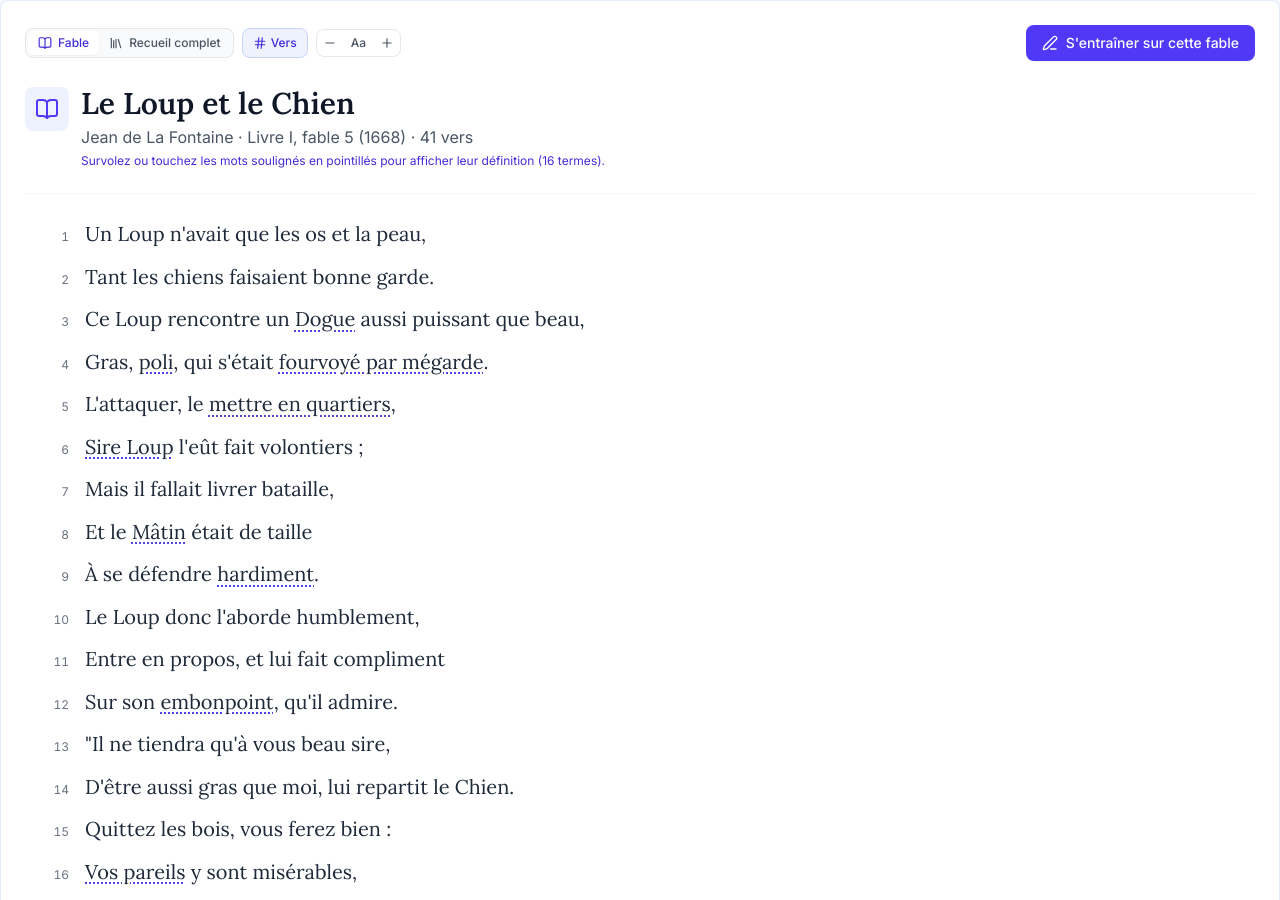
Test: FableReader › affiche la définition d’un mot annoté au survol et la masque à la sortie ou avec Échap
Hover over the text "Dogue".
mouse_move(325, 318)  # box 295,306 -> 355,331
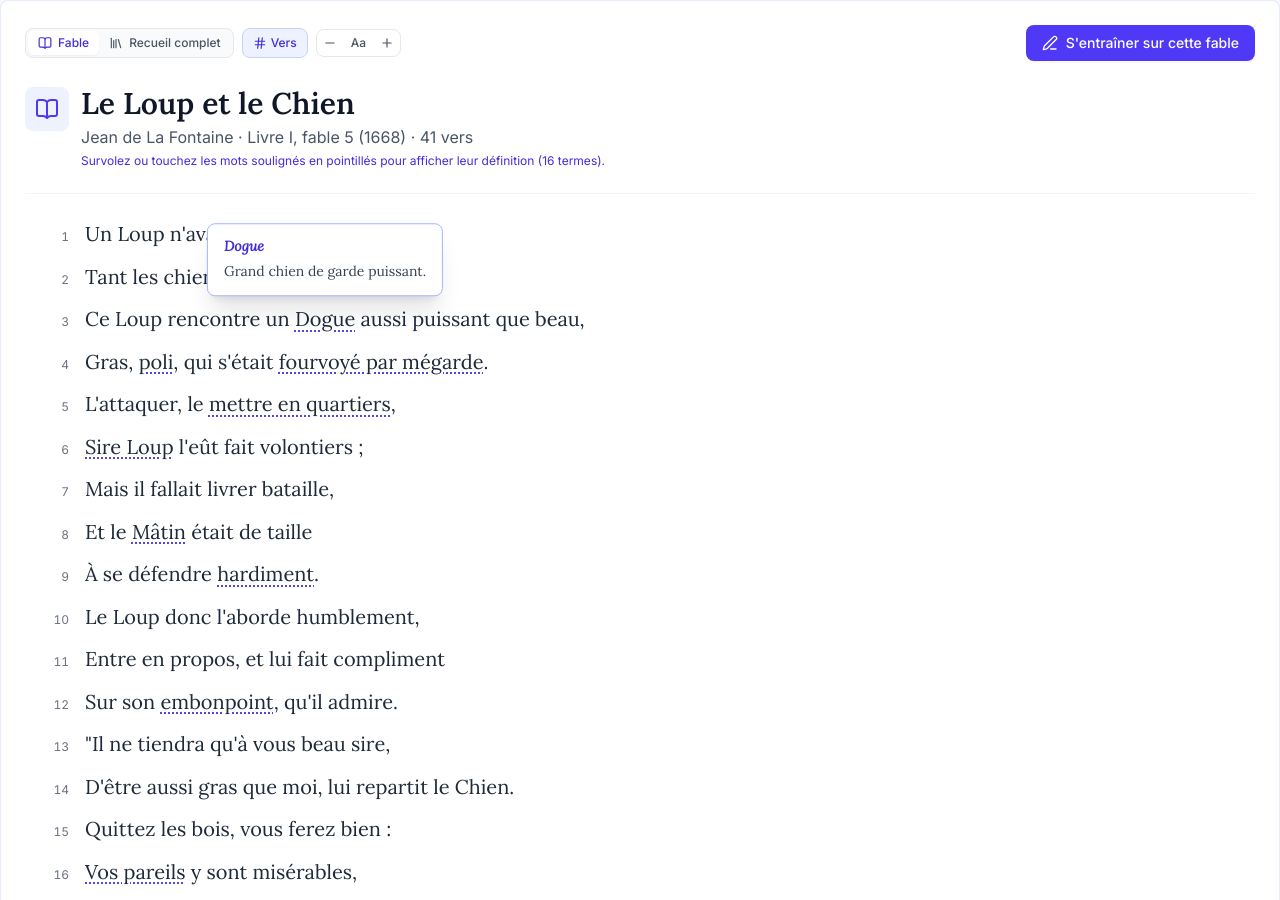
Check: the tooltip shows "Dogue", box 224,237 -> 264,255
Check: the tooltip shows "Grand chien de garde puissant.", box 224,262 -> 426,280
Move the pointer off the text "Dogue", box 295,306 -> 355,331
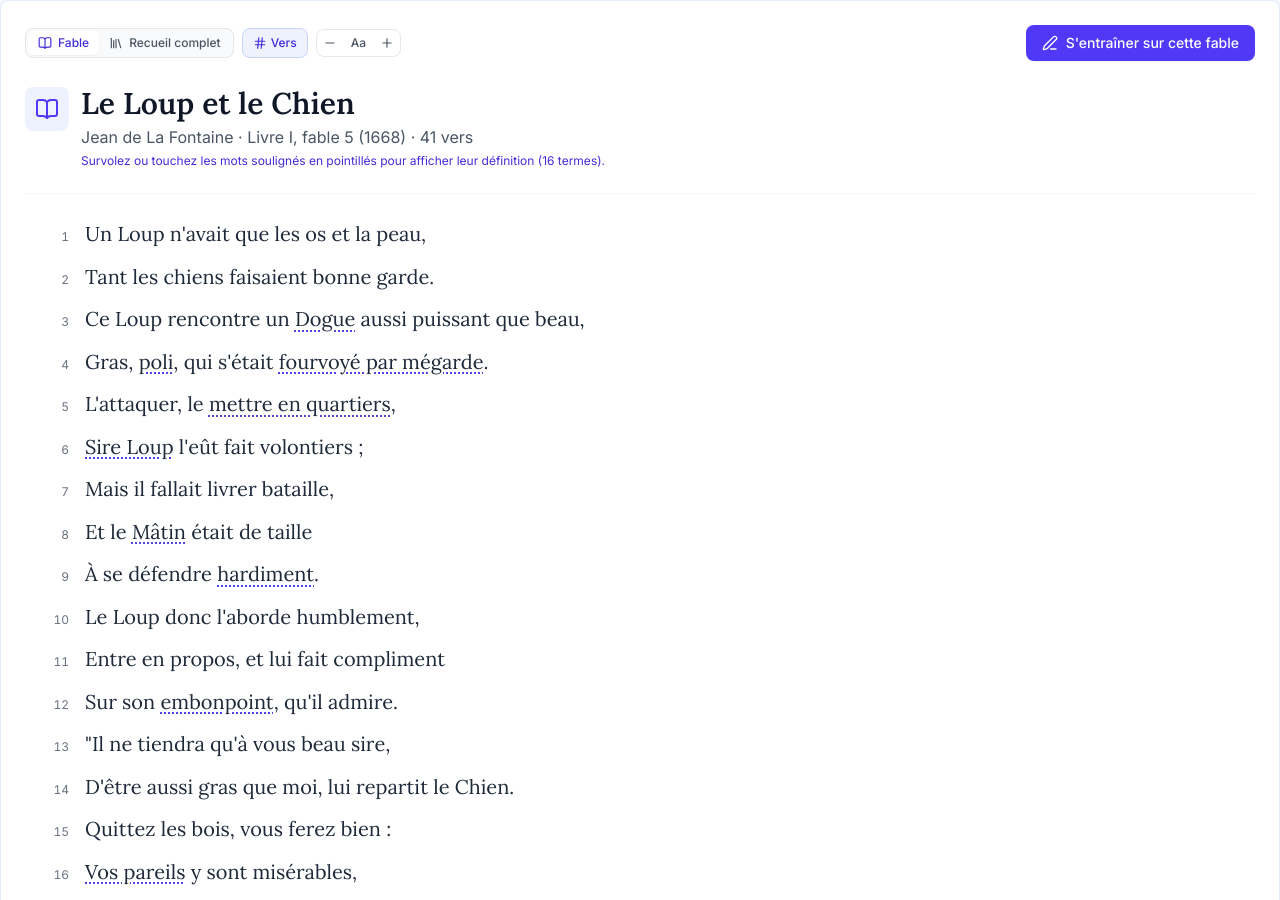
Check: the tooltip "Dogue Grand chien de garde puissant." is gone
Note: Épinglage au clic puis fermeture via Échap
Click the text "Dogue".
click(325, 318)  # box 295,306 -> 355,331
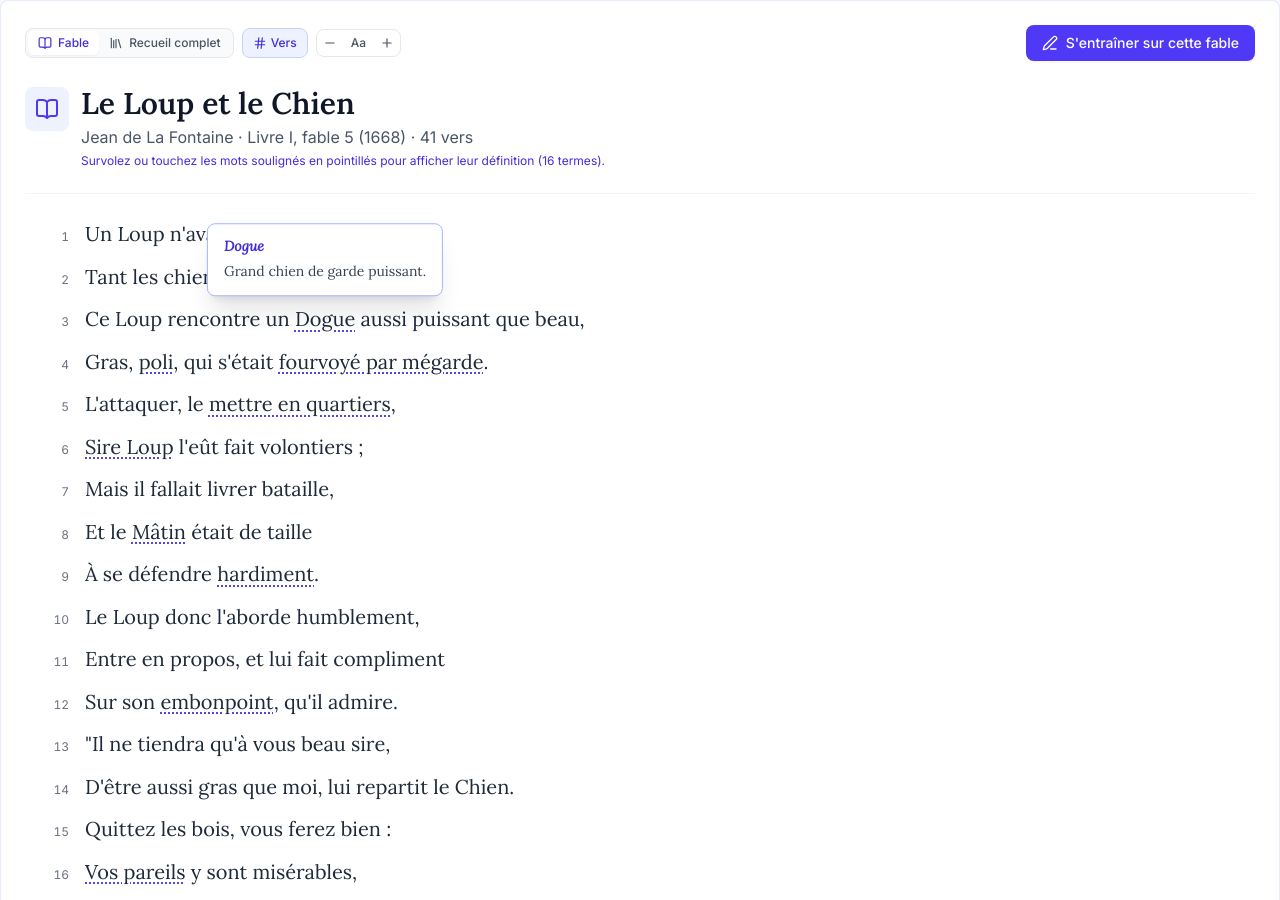
Check: the tooltip shows "Grand chien de garde puissant.", box 224,262 -> 426,280
Press Escape
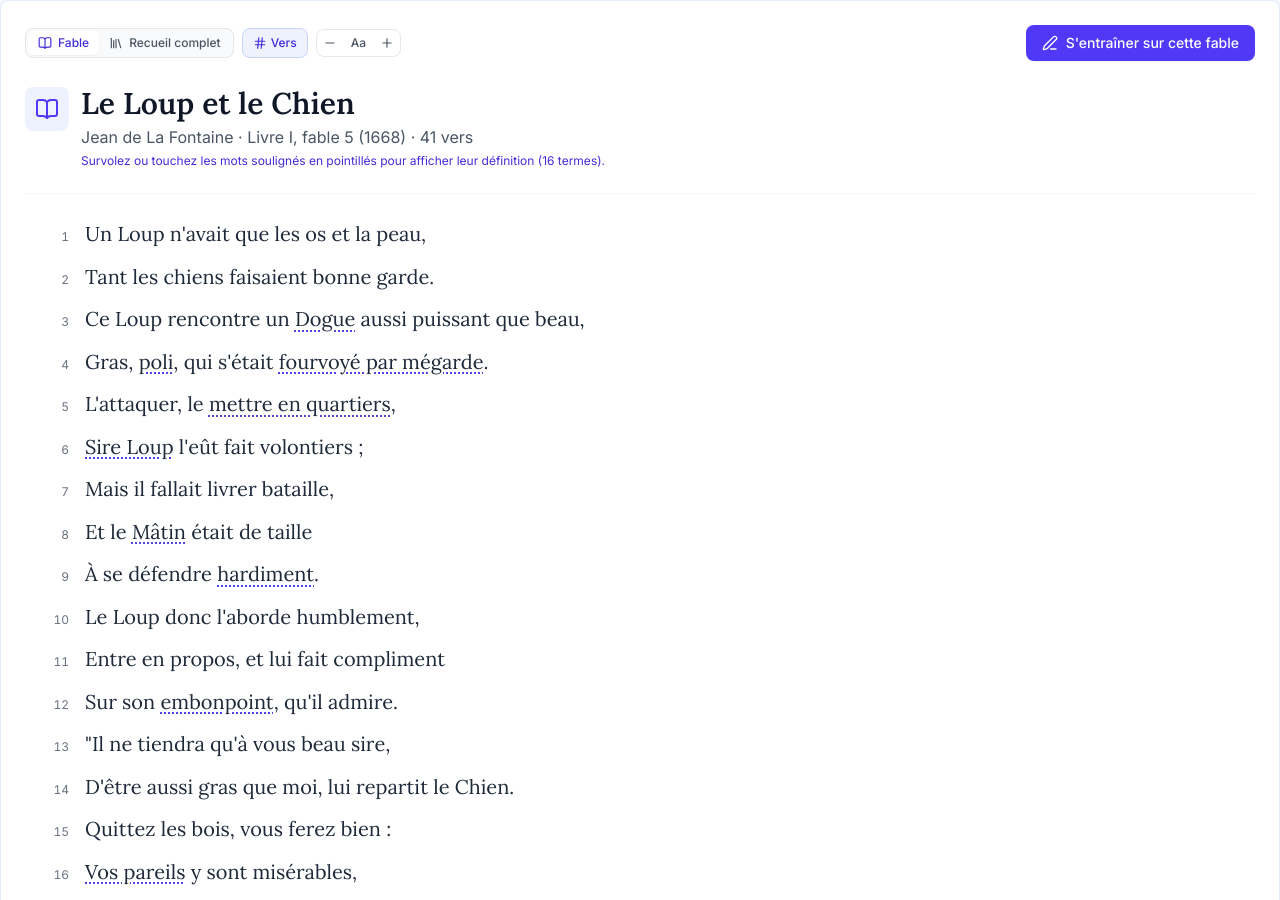
Check: the tooltip "Dogue Grand chien de garde puissant." is gone
